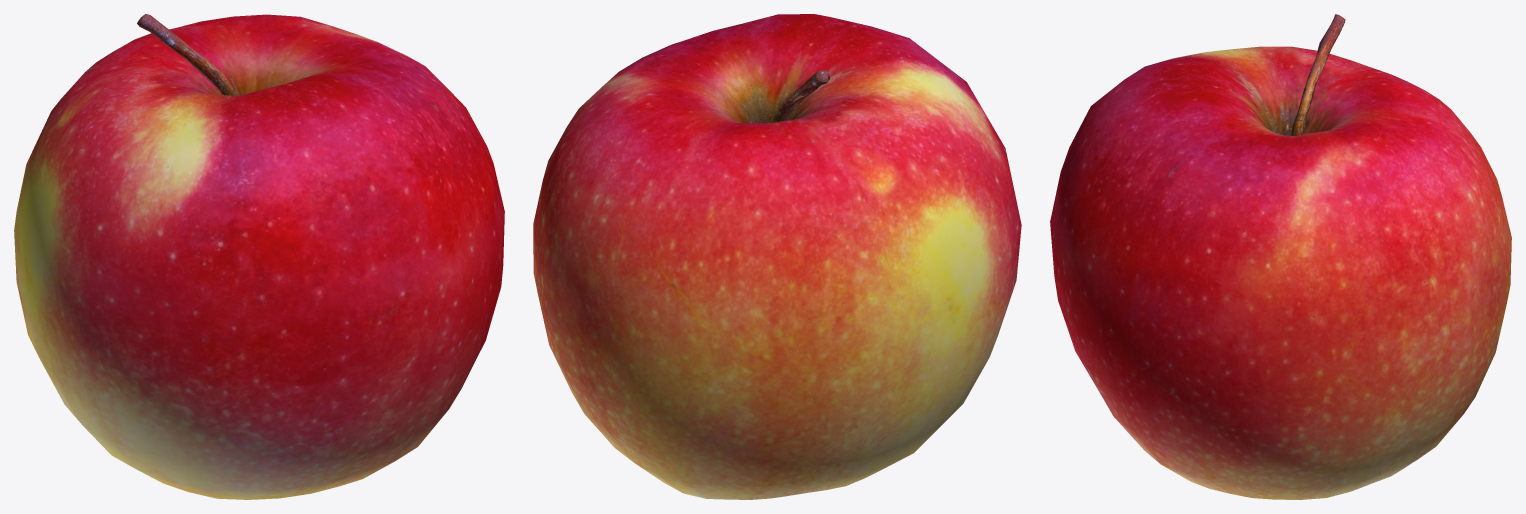
Rendered from apple.glb.
3 renders of one model, left to right at view 1: azimuth 30°, elevation 25°; view 2: azimuth 150°, elevation 25°; view 3: azimuth 270°, elevation 25°, orthographic. The views are drawn at different scales.
Visible parts, largest first — view 1: Pink_Lady_Apple_01; view 2: Pink_Lady_Apple_01; view 3: Pink_Lady_Apple_01.
Boxes of the visible parts, <box> form: Pink_Lady_Apple_01: <box>14,14,504,499</box>; Pink_Lady_Apple_01: <box>533,14,1021,499</box>; Pink_Lady_Apple_01: <box>1050,14,1511,499</box>.
Bounding box in the file's own units: 9.89 × 9.64 × 9.92.
Materials: 1 (1 with a texture image).
